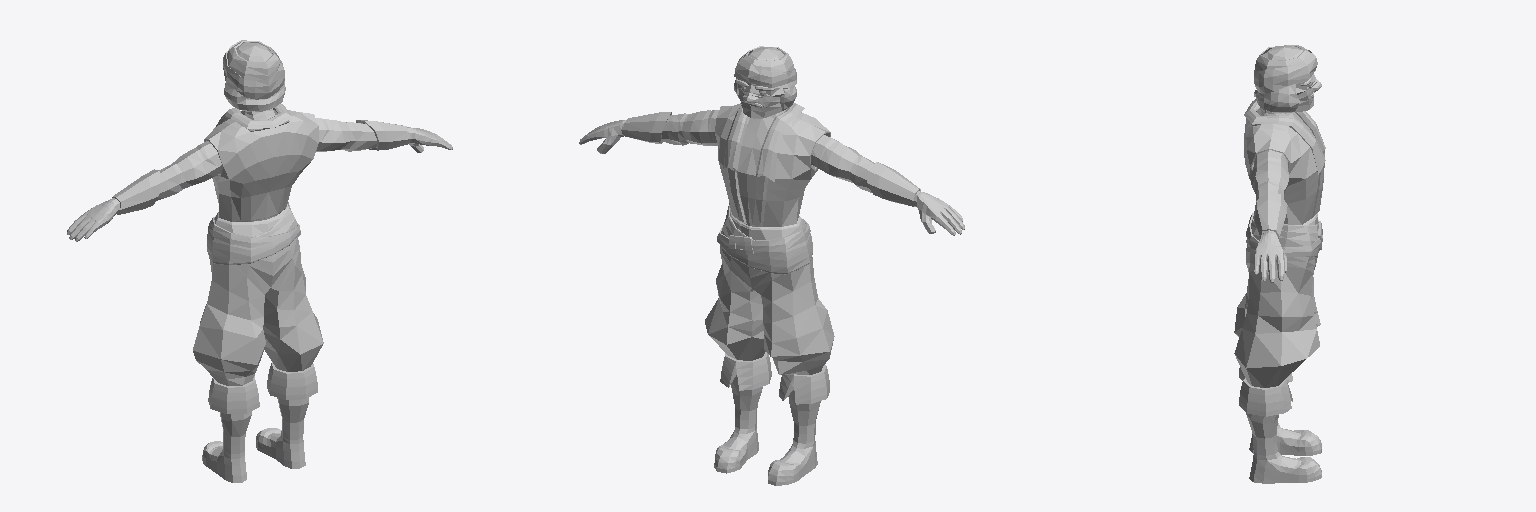
File: characterTall.obj
The picture shows the model from 3 angles: view 1: azimuth 30°, elevation 25°; view 2: azimuth 150°, elevation 25°; view 3: azimuth 270°, elevation 25°; orthographic projection.
Size of the model in its own units: 1.98 by 2.08 by 0.4132.